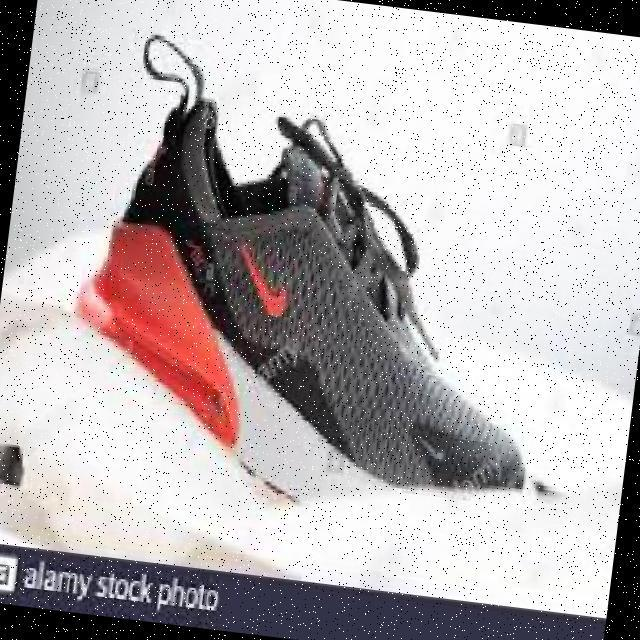Nike: (229, 243, 292, 323)
